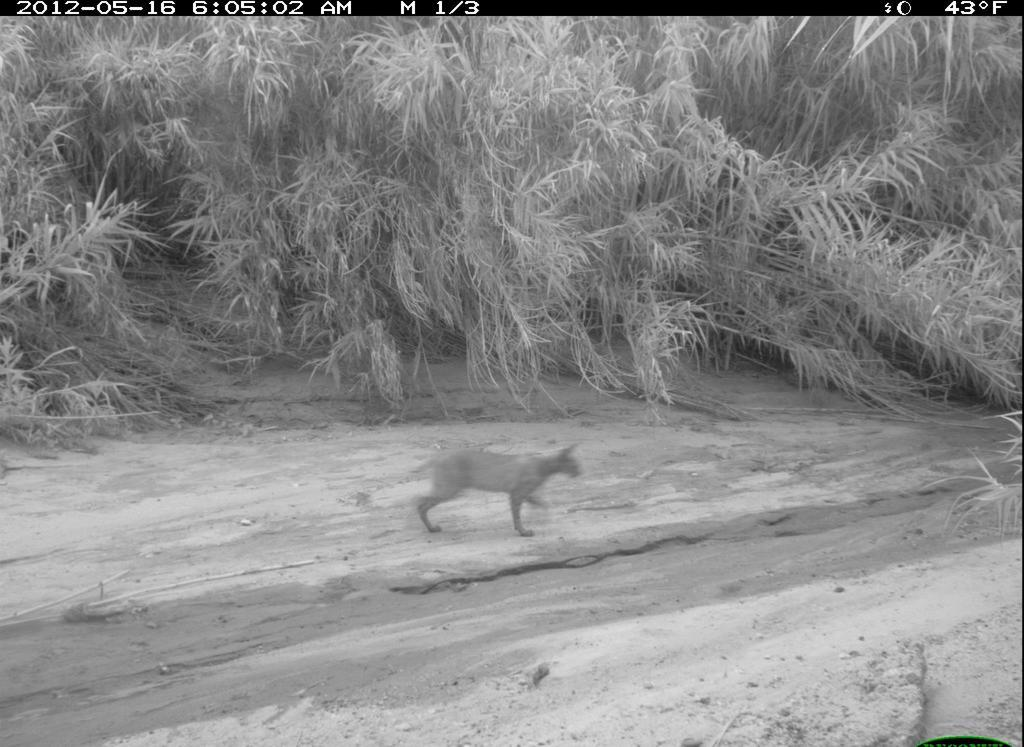bobcat: (391, 429, 585, 547)
